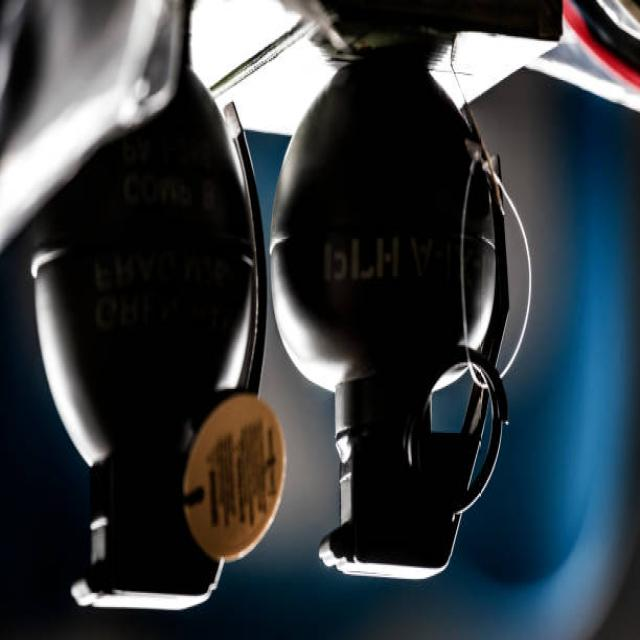grenade: (269, 61, 536, 597), (27, 65, 271, 625)
